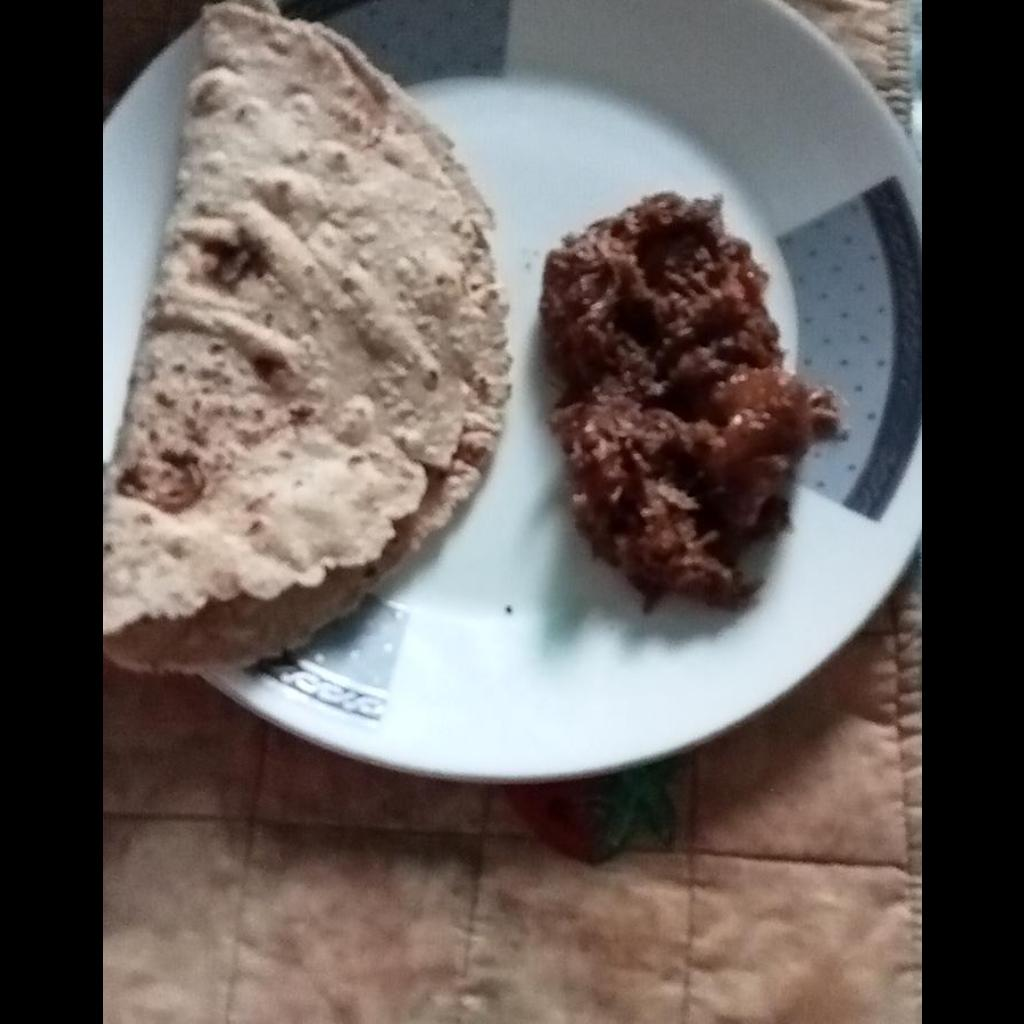beef: (539, 192, 840, 604)
ruti: (106, 4, 515, 674)
